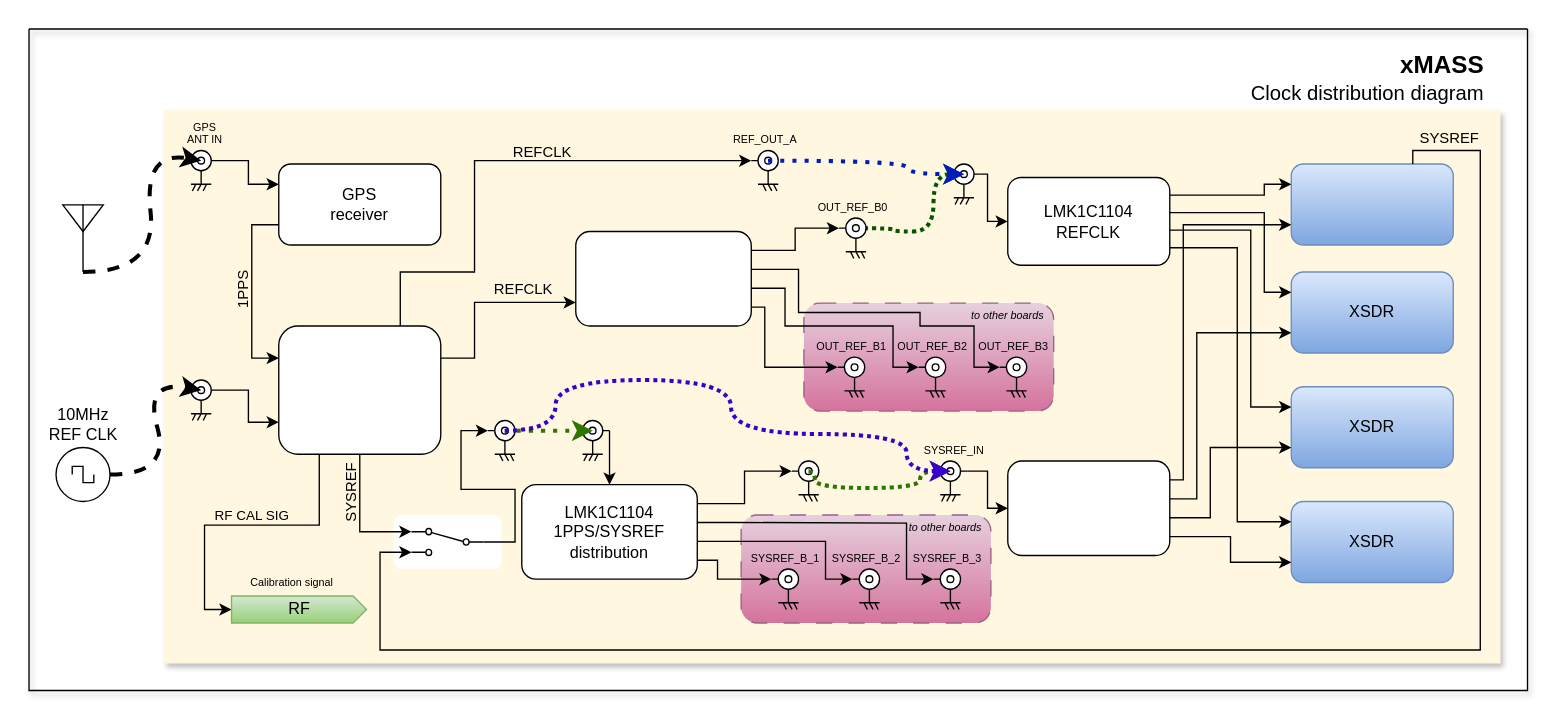
Some shapes in this 1559 by 724 pixel diagram are drawn without their labels. The centre of each missing label's shape, as x and y in pixels:
"10MHz IN" goes at point (204, 400).
"GPS ANT" goes at point (82, 237).
"LMK05318B" goes at point (359, 389).
"LMK1C1104 1PPS/SYSREF" goes at point (1088, 508).
"LMK1C1104 REFCLK distribution" goes at point (662, 278).
"REF_IN" goes at point (966, 184).
"SYSREF_B_0" goes at point (804, 481).
"SYSREF_B_IN" goes at point (595, 440).
"SYSREF_OUT" goes at point (501, 440).
"XSDR MASTER" goes at point (1371, 204).
